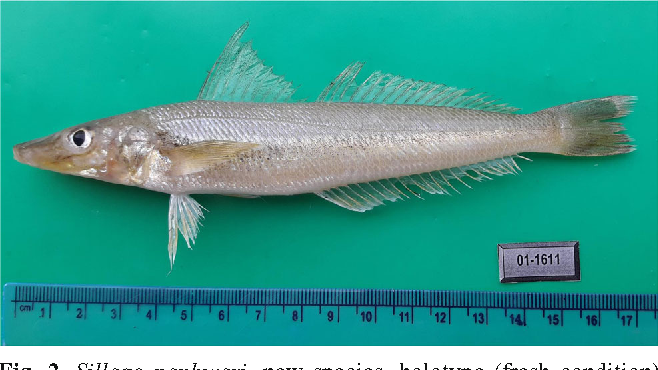kiss: (8, 80, 642, 243)
